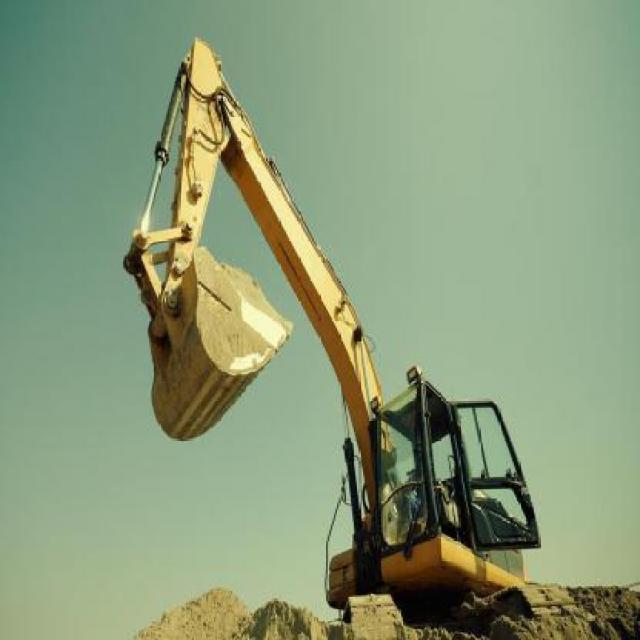Excavator: (119, 34, 622, 628)
